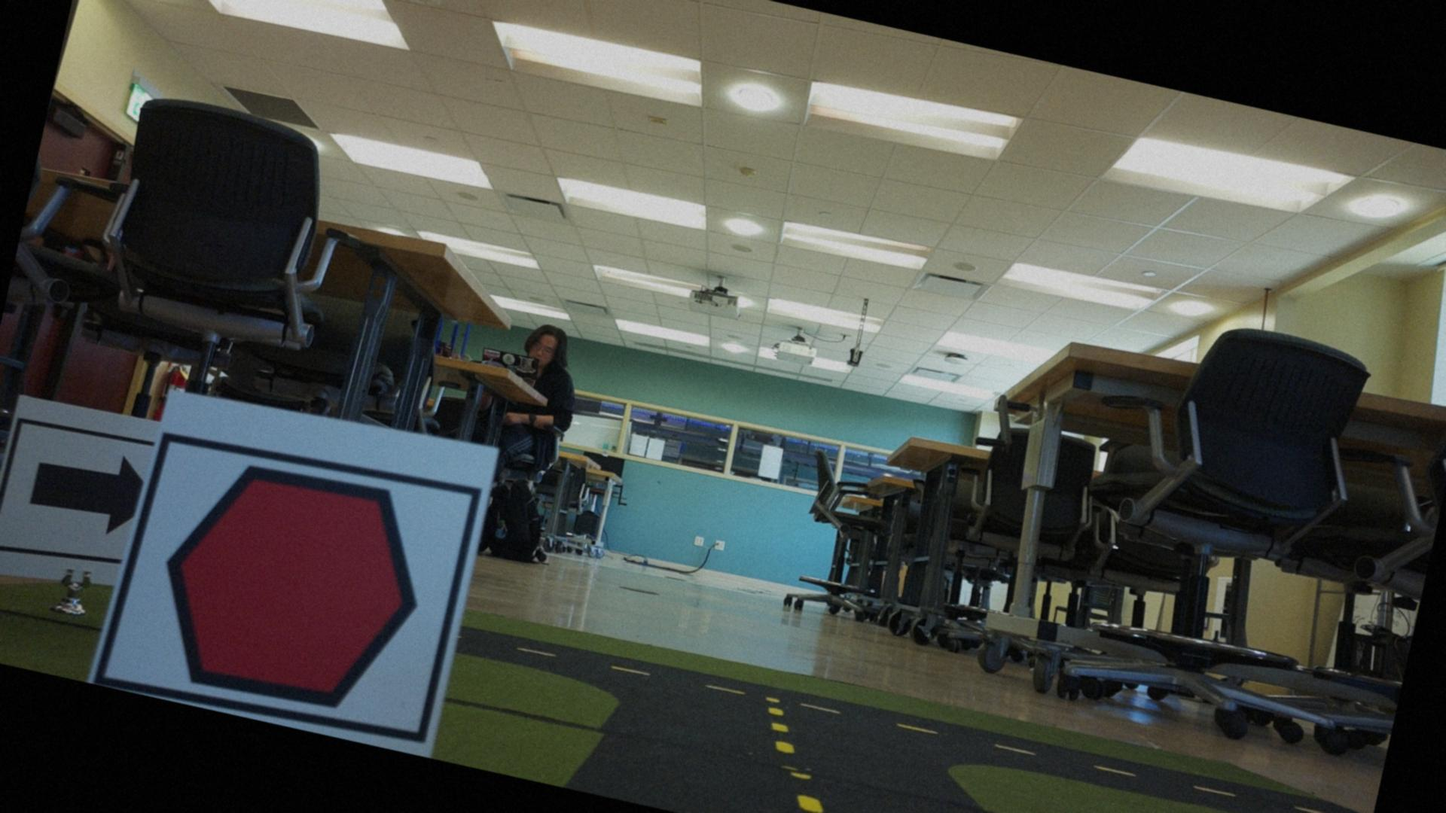stop: (126, 433, 459, 741)
yellowline: (759, 702, 809, 762), (782, 769, 847, 812)
